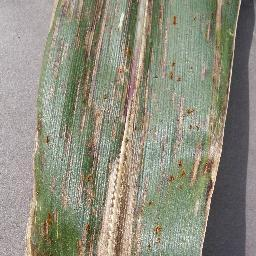Gray_Leaf_Spot: (25, 1, 240, 254)
